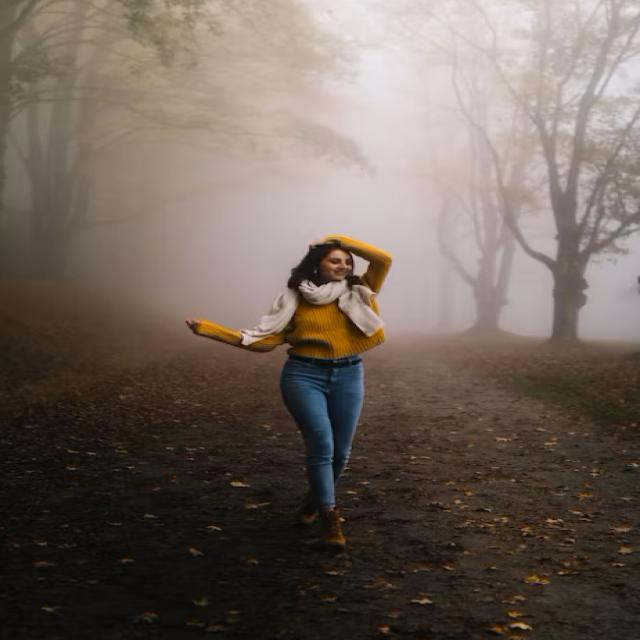Edited images: (172, 218, 423, 569)
